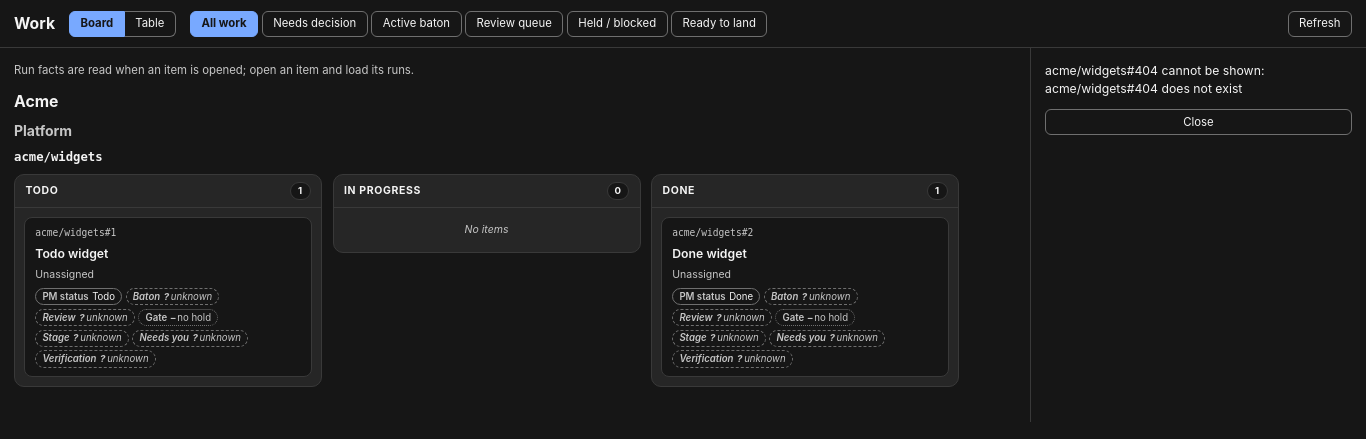
Scenario: /work page › focus › falls back to the page heading when Close is pressed on an item that cannot be shown
The image size is (1366, 439).
Check: the message "acme/widgets#404 cannot be shown: acme/widgets#404 does not exist" is shown, box left=1045, top=63, right=1264, bottom=96
Click the button "Close".
click(1198, 122)  # box left=1045, top=109, right=1352, bottom=135
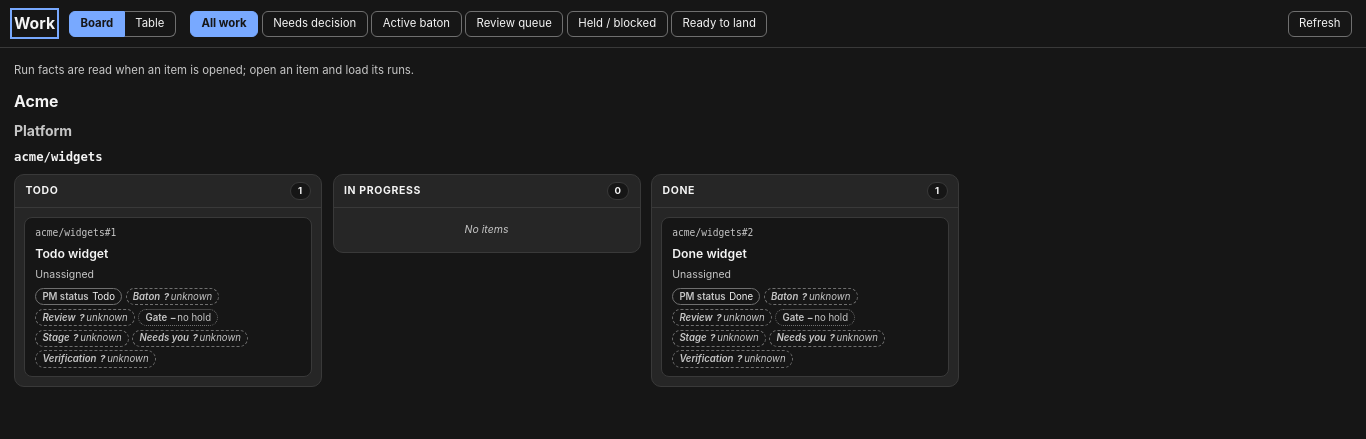
Check: the element with test id "work-item-state" is gone
